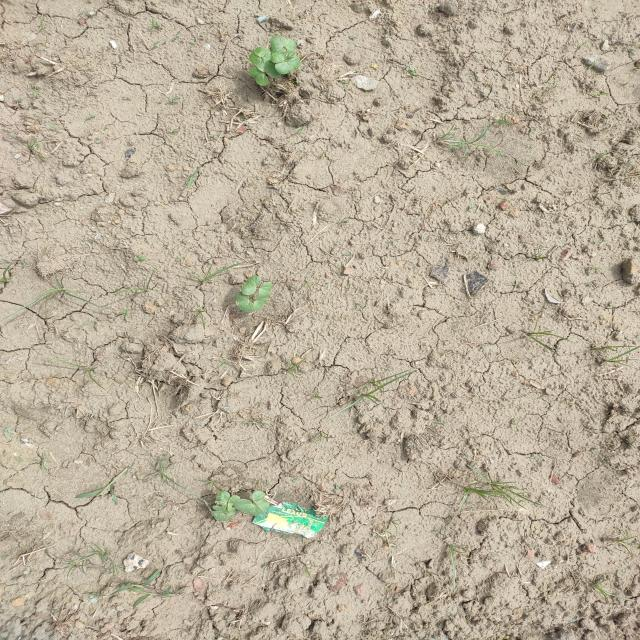seedling: (234, 499, 263, 516), (275, 56, 300, 74), (256, 60, 281, 78), (242, 275, 261, 296), (249, 67, 269, 86), (236, 291, 254, 312), (212, 491, 230, 511), (252, 491, 270, 510), (269, 35, 286, 54), (271, 51, 296, 63), (254, 47, 272, 63), (258, 282, 273, 298), (253, 295, 268, 311), (249, 53, 265, 67), (227, 495, 240, 512), (210, 511, 232, 521), (284, 38, 297, 52), (223, 509, 236, 516)
